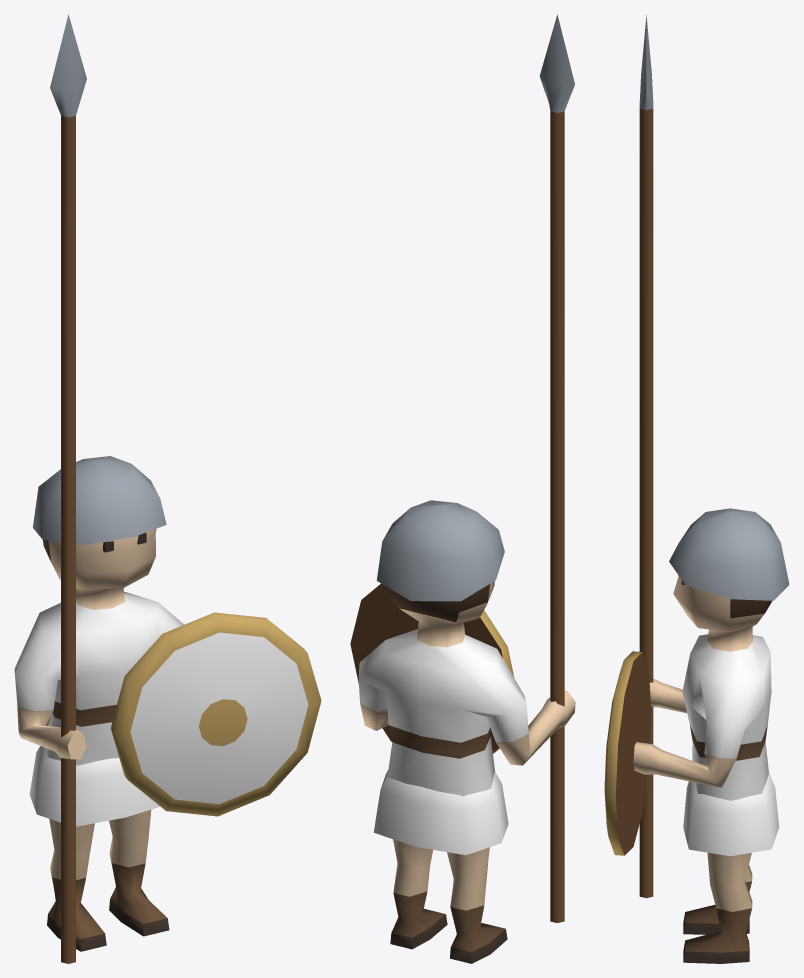
File: spear.glb
3 views of the same model, side by side, from view 1: azimuth 30°, elevation 25°; view 2: azimuth 150°, elevation 25°; view 3: azimuth 270°, elevation 25° (orthographic). The views are drawn at different scales.
Parts seen in each view (by area): view 1: spear; view 2: spear; view 3: spear.
Boxes of the visible parts, box(x1,y1,x2,y2) form: spear: box(14, 14, 321, 963); spear: box(350, 14, 575, 963); spear: box(604, 14, 789, 963).
Bounding box in the file's own units: 0.9481 × 3.46 × 0.6491.
